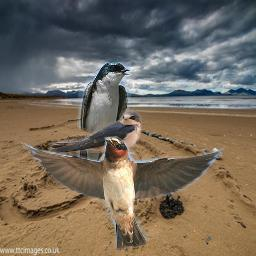Swallow: (19, 136, 225, 251), (74, 62, 131, 192), (48, 109, 142, 160)
